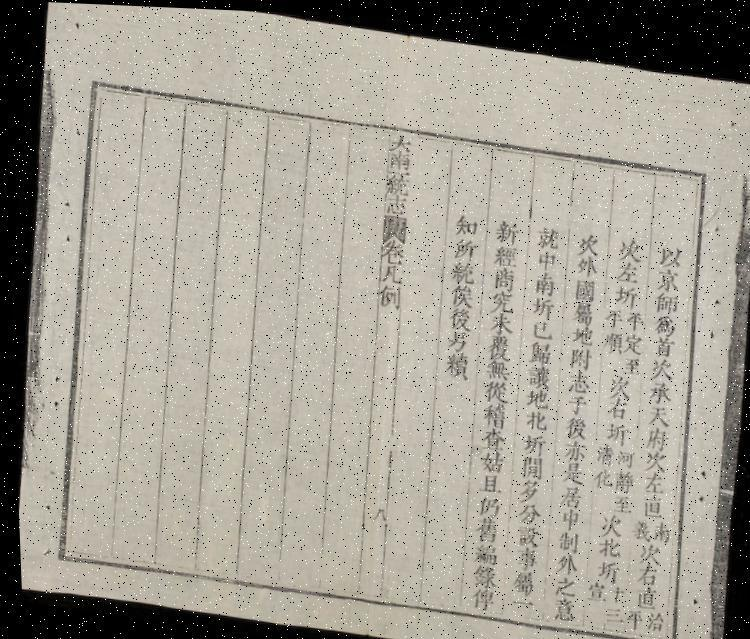c: (438, 345, 469, 376), (476, 395, 508, 425), (467, 510, 498, 540), (482, 328, 512, 358), (489, 212, 520, 241), (612, 228, 644, 256), (504, 563, 534, 592), (520, 358, 552, 385), (592, 505, 622, 533), (558, 408, 588, 436), (532, 218, 562, 246), (446, 254, 476, 282), (464, 580, 494, 608), (598, 413, 629, 440), (450, 206, 479, 234), (652, 260, 681, 288), (634, 486, 664, 513), (654, 236, 684, 263), (489, 238, 519, 265), (642, 372, 672, 399), (474, 442, 504, 469), (588, 552, 619, 578), (640, 419, 668, 447), (546, 590, 574, 618), (523, 334, 552, 361), (572, 225, 601, 252), (602, 367, 631, 394), (628, 578, 658, 604), (609, 276, 639, 302), (610, 254, 640, 280), (475, 421, 505, 447), (466, 536, 496, 562), (466, 558, 496, 584), (630, 535, 661, 560), (378, 233, 406, 260), (562, 362, 590, 389), (446, 278, 474, 305), (528, 264, 555, 292), (486, 283, 514, 310), (629, 556, 658, 582), (511, 495, 540, 521), (557, 432, 586, 458), (650, 283, 679, 309), (509, 518, 538, 544), (484, 306, 513, 332), (548, 545, 577, 571), (443, 300, 472, 326), (641, 396, 670, 422), (525, 288, 554, 314), (479, 374, 509, 399), (590, 529, 620, 554), (569, 270, 596, 297), (516, 426, 544, 452), (512, 472, 540, 498), (564, 340, 592, 366), (514, 449, 542, 475), (518, 402, 546, 428), (488, 261, 516, 287), (449, 232, 477, 258), (546, 568, 574, 594), (645, 350, 674, 375), (470, 489, 499, 514), (520, 382, 550, 406), (568, 294, 594, 321), (553, 478, 580, 504), (636, 464, 664, 489), (555, 455, 583, 480), (550, 523, 578, 548), (480, 354, 510, 377), (442, 324, 469, 349), (508, 540, 535, 565), (647, 328, 674, 353), (382, 170, 410, 194), (638, 443, 666, 467), (648, 306, 676, 330), (552, 501, 578, 526), (607, 462, 633, 487), (601, 391, 628, 415), (572, 248, 599, 272), (566, 318, 594, 341), (598, 323, 623, 348), (618, 600, 642, 626), (474, 467, 500, 491), (626, 511, 650, 536), (378, 258, 403, 282), (374, 280, 399, 304), (618, 324, 642, 349), (590, 436, 614, 461), (526, 313, 552, 336), (562, 387, 588, 410), (382, 191, 409, 213), (386, 128, 413, 150), (639, 603, 663, 627), (580, 573, 604, 597), (600, 299, 624, 323), (532, 244, 557, 267), (606, 486, 630, 509), (588, 460, 611, 484), (646, 513, 668, 538), (385, 148, 412, 168), (621, 304, 644, 327), (596, 599, 620, 621), (617, 348, 641, 370), (610, 441, 634, 463), (504, 590, 532, 608), (600, 578, 622, 599)
